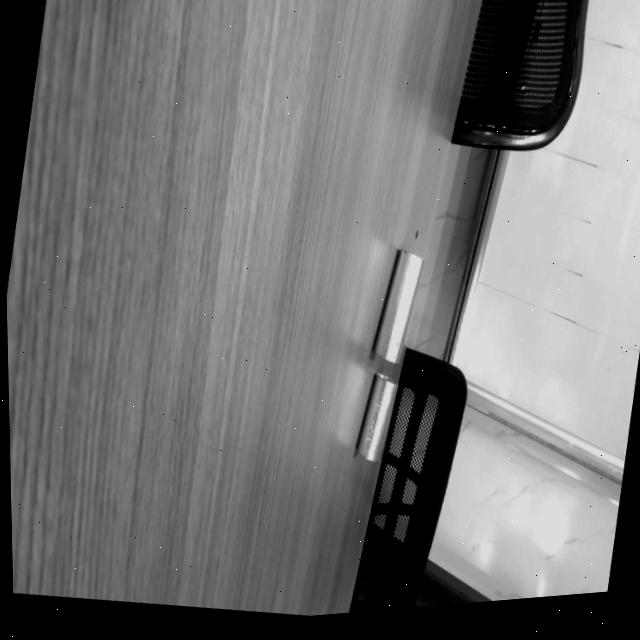Co_Lon: (371, 248, 426, 363)
Co_Nho: (354, 371, 401, 462)
